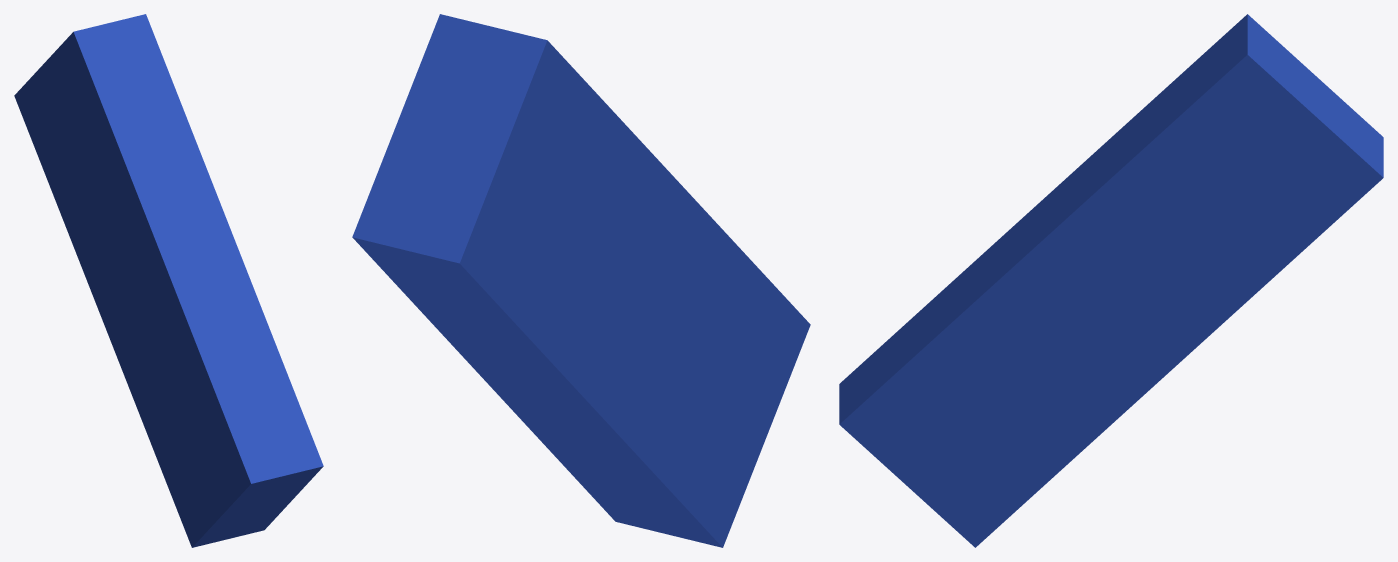
The model's file is thumb1_right.dae.
3 views of the same model, side by side, from view 1: azimuth 30°, elevation 25°; view 2: azimuth 150°, elevation 25°; view 3: azimuth 270°, elevation 25° (orthographic). The views are drawn at different scales.
Parts seen in each view (by area): view 1: Cube; view 2: Cube; view 3: Cube.
Boxes of the visible parts, x1=… form: Cube: x1=14, y1=14, x2=323, y2=547; Cube: x1=352, y1=14, x2=810, y2=547; Cube: x1=839, y1=14, x2=1383, y2=547.
Size of the model in its own units: 0.00635 by 0.0359 by 0.0359.
